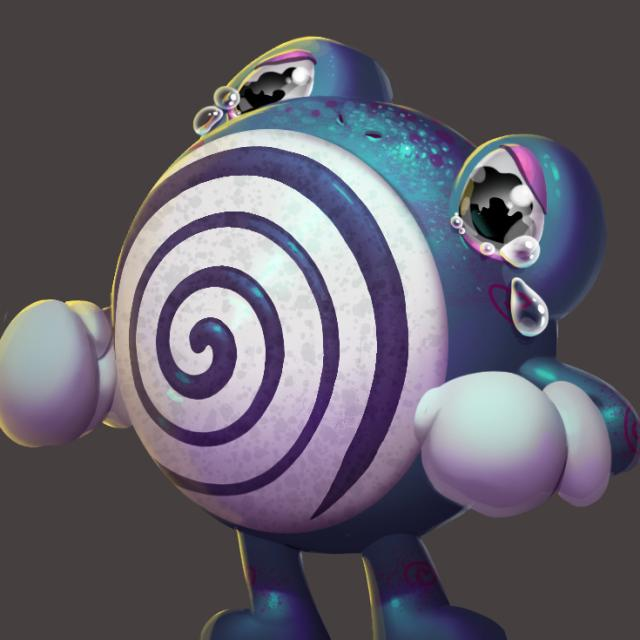Poliwhirl: (67, 33, 613, 526)
